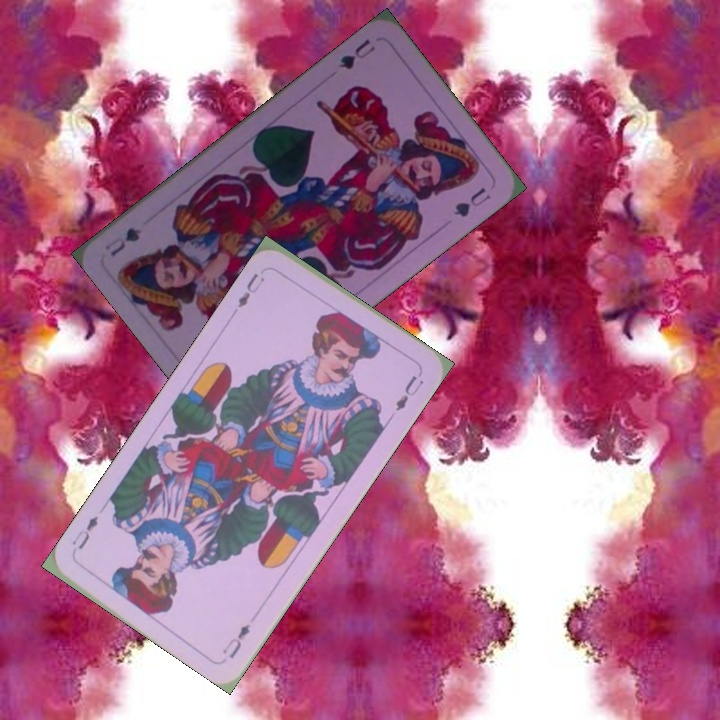EU: (218, 620, 253, 661), (234, 269, 268, 311)
GU: (334, 35, 378, 73)
